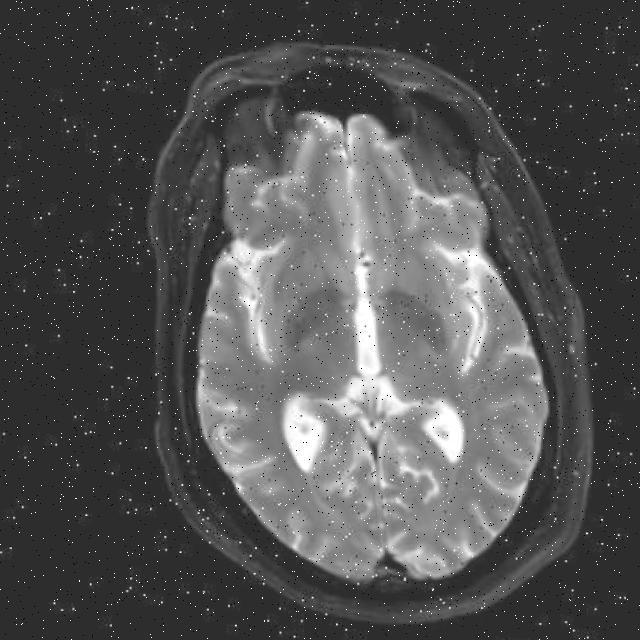MCI: (352, 268, 448, 378), (256, 259, 344, 374)
